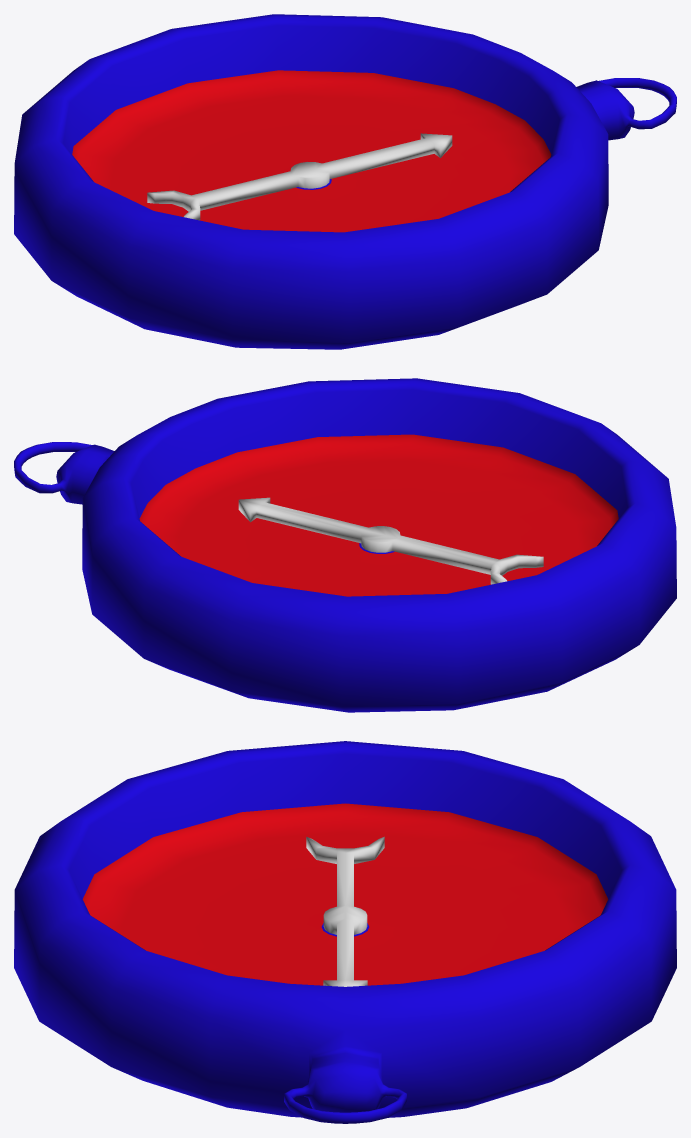
Rendered from Compass.fbx.
The picture shows the model from 3 angles, top to bottom: view 1: azimuth 30°, elevation 25°; view 2: azimuth 150°, elevation 25°; view 3: azimuth 270°, elevation 25°; orthographic projection. The views are drawn at different scales.
Visible parts, largest first — view 1: Compass, Needle; view 2: Compass, Needle; view 3: Compass, Needle.
Boxes of the visible parts, x1,y1,x2,y2 form: Compass: (14, 14, 676, 349); Needle: (147, 133, 452, 220); Compass: (14, 378, 676, 712); Needle: (238, 497, 543, 584); Compass: (14, 741, 676, 1123); Needle: (306, 836, 384, 986).
Size of the model in its own units: 222 by 41.4 by 185.
